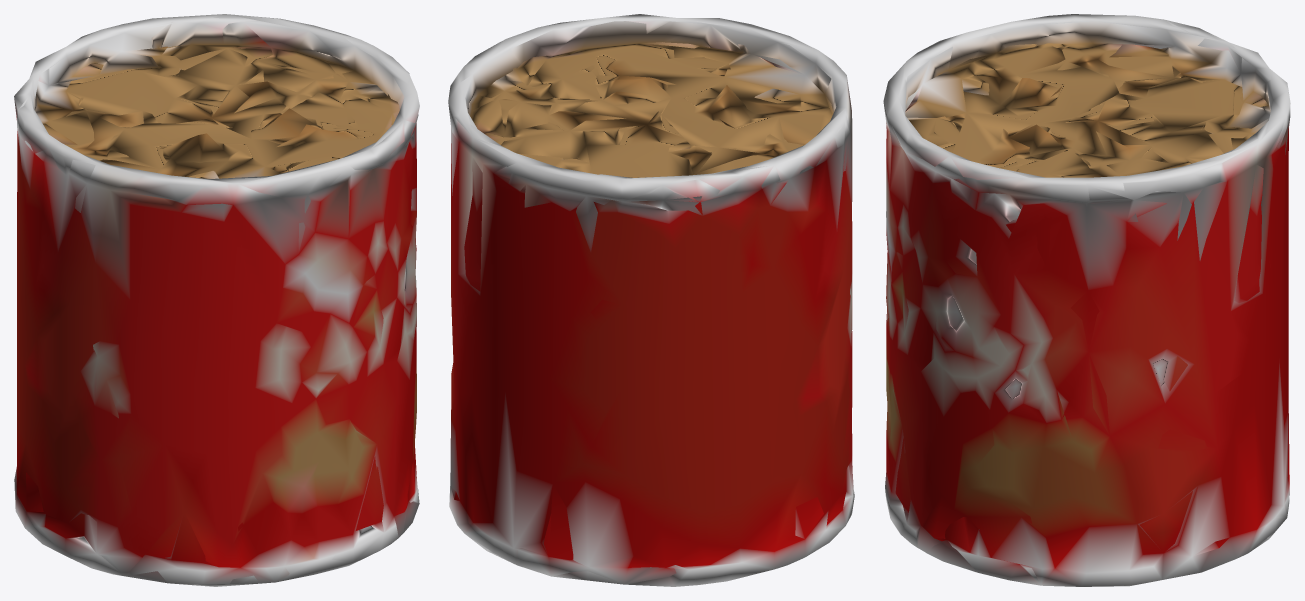
Rendered from gen3d-canned-soup-lod0.glb.
The picture shows the model from 3 angles, left to right: view 1: azimuth 30°, elevation 25°; view 2: azimuth 150°, elevation 25°; view 3: azimuth 270°, elevation 25°; orthographic projection.
Parts seen in each view (by area): view 1: part_0; view 2: part_0; view 3: part_0.
Boxes of the visible parts, <box> form: part_0: <box>14,14,419,586</box>; part_0: <box>448,14,854,586</box>; part_0: <box>883,14,1290,586</box>.
Size of the model in its own units: 0.9107 by 1 by 0.9095.
